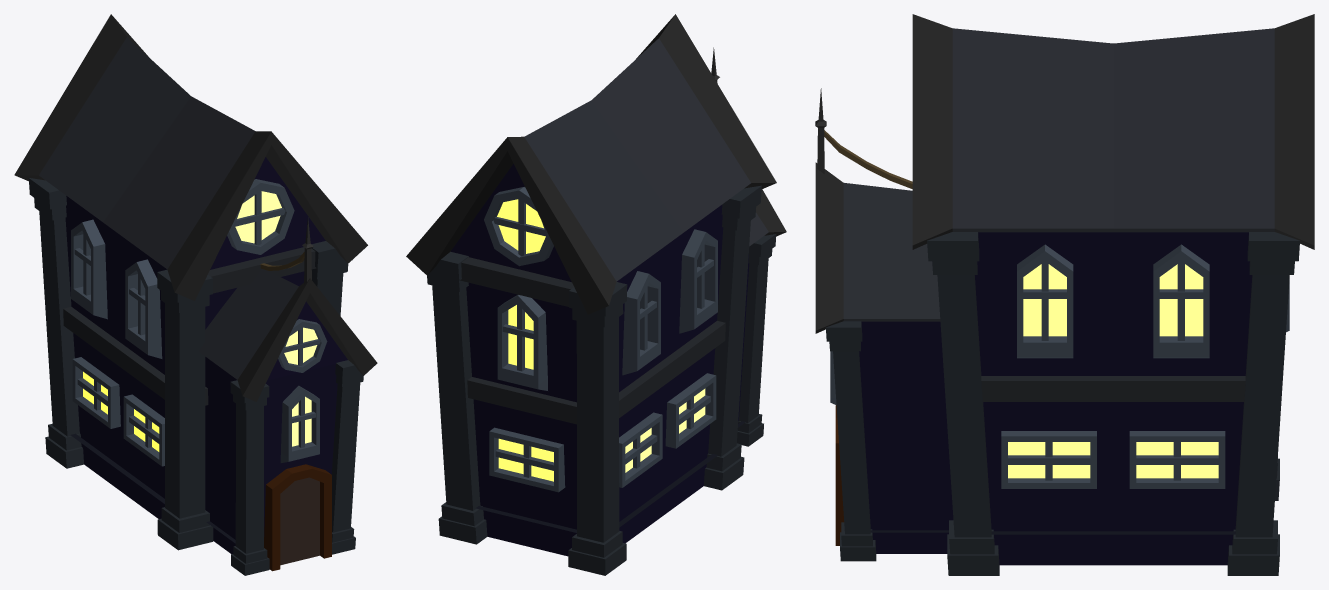
The model's file is CasaGoticaVariante1_Casa02.fbx.
3 views of the same model, side by side, from view 1: azimuth 30°, elevation 25°; view 2: azimuth 150°, elevation 25°; view 3: azimuth 270°, elevation 25° (orthographic). The views are drawn at different scales.
Parts seen in each view (by area): view 1: Teto02, Pilar02, Parede02, JanelaMolde02, Divisao02, Porta02, PortaContorno02, JanelaFundo02, Base02; view 2: Teto02, Pilar02, Parede02, JanelaMolde02, Divisao02, JanelaFundo02, Base02; view 3: Teto02, Parede02, Pilar02, JanelaMolde02, JanelaFundo02, Divisao02, Base02, PortaContorno02, Corda02.
Part boxes in pixels (<box>): Teto02: <box>14,14,377,401</box>; Pilar02: <box>28,178,366,575</box>; Parede02: <box>65,157,347,554</box>; JanelaMolde02: <box>71,179,327,466</box>; Divisao02: <box>63,247,316,405</box>; Porta02: <box>280,477,319,565</box>; PortaContorno02: <box>264,464,331,571</box>; JanelaFundo02: <box>83,191,317,451</box>; Base02: <box>70,433,235,543</box>; Teto02: <box>406,14,786,314</box>; Pilar02: <box>422,185,776,575</box>; Parede02: <box>451,164,749,556</box>; JanelaMolde02: <box>484,187,717,492</box>; Divisao02: <box>460,257,725,424</box>; JanelaFundo02: <box>497,199,705,481</box>; Base02: <box>476,421,745,532</box>; Teto02: <box>815,14,1314,333</box>; Parede02: <box>859,232,1252,565</box>; Pilar02: <box>825,232,1299,575</box>; JanelaMolde02: <box>830,244,1289,488</box>; JanelaFundo02: <box>1008,264,1218,478</box>; Divisao02: <box>981,376,1245,401</box>; Base02: <box>870,530,1235,534</box>; PortaContorno02: <box>835,405,844,545</box>; Corda02: <box>824,130,912,188</box>.
Bounding box in the file's own units: 1099 × 2224 × 1957.
